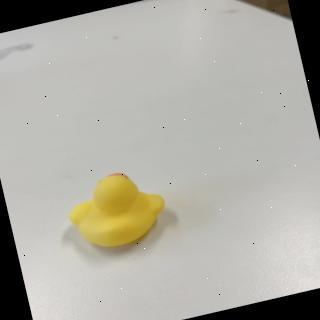duck_regular: (61, 163, 174, 257)
